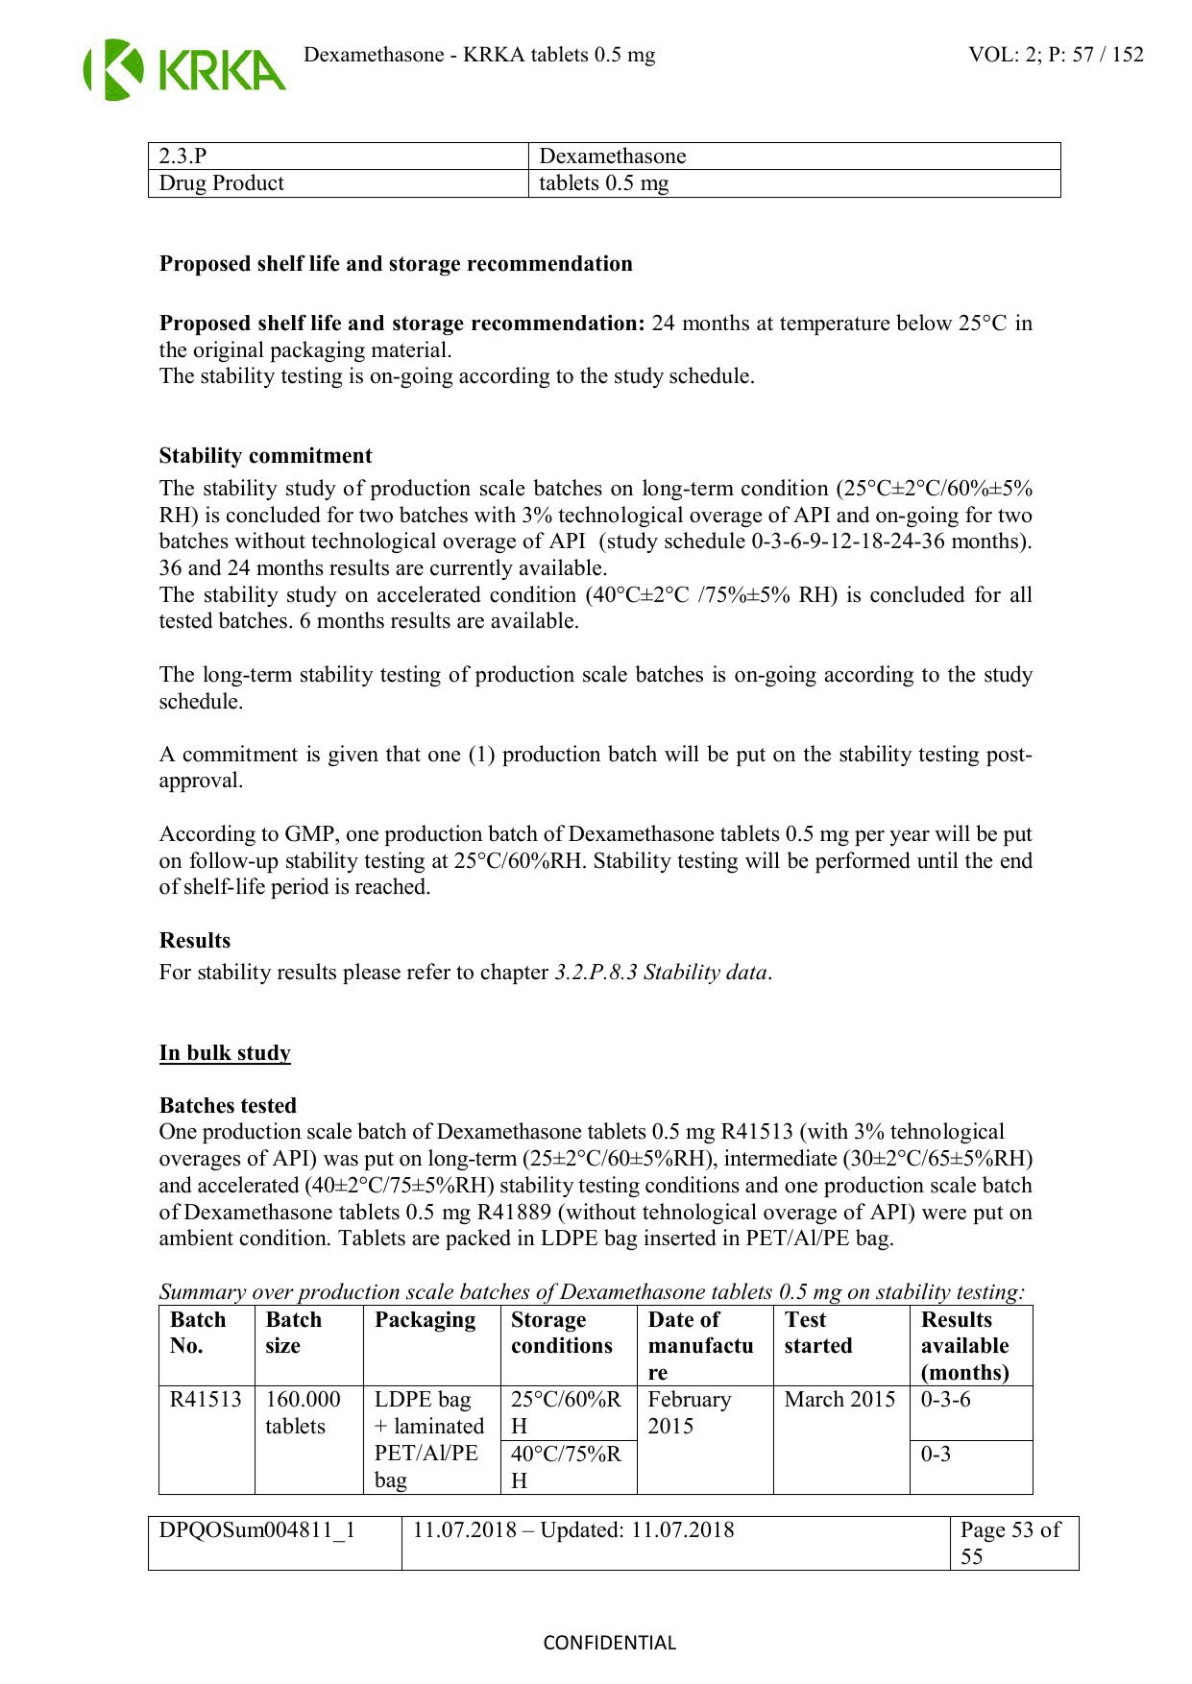full_lined: (147, 141, 1062, 199), (146, 1515, 1081, 1572)
merged_cells: (156, 1304, 1035, 1494)
